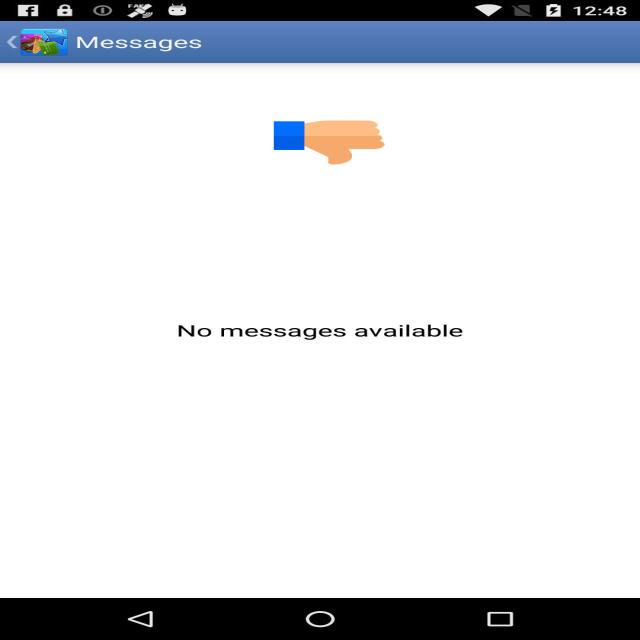obstruction: (274, 119, 384, 166)
